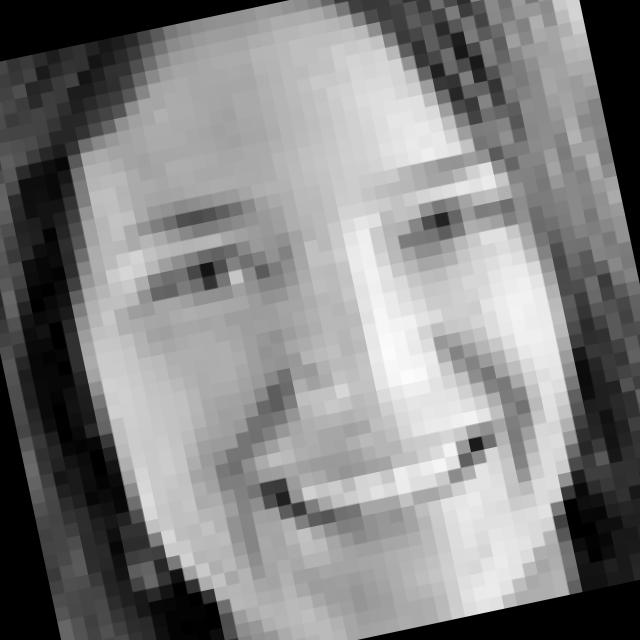happy: (97, 133, 582, 602)
